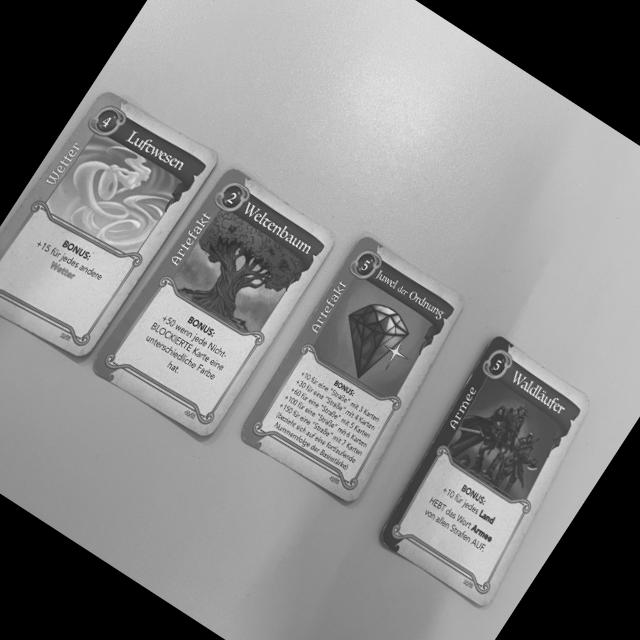Air Elemental: (0, 87, 219, 363)
Gem Of Order: (237, 234, 468, 502)
Rangers: (373, 335, 593, 608)
World Tree: (87, 163, 336, 445)
